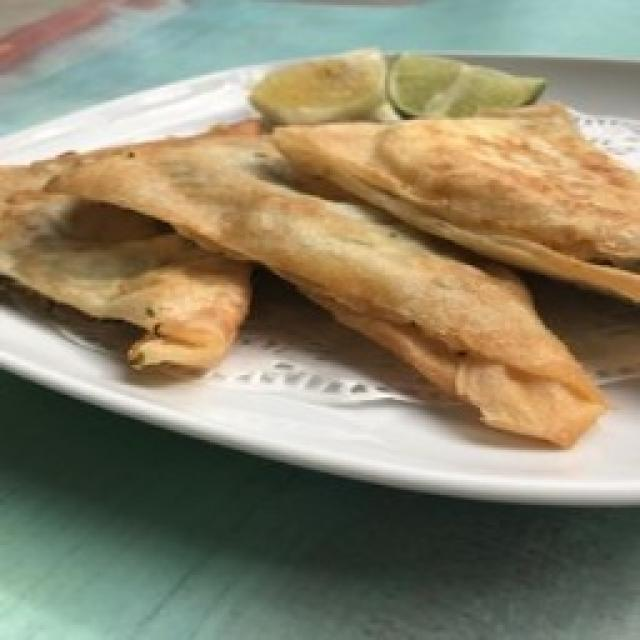Brik: (0, 106, 640, 446)
